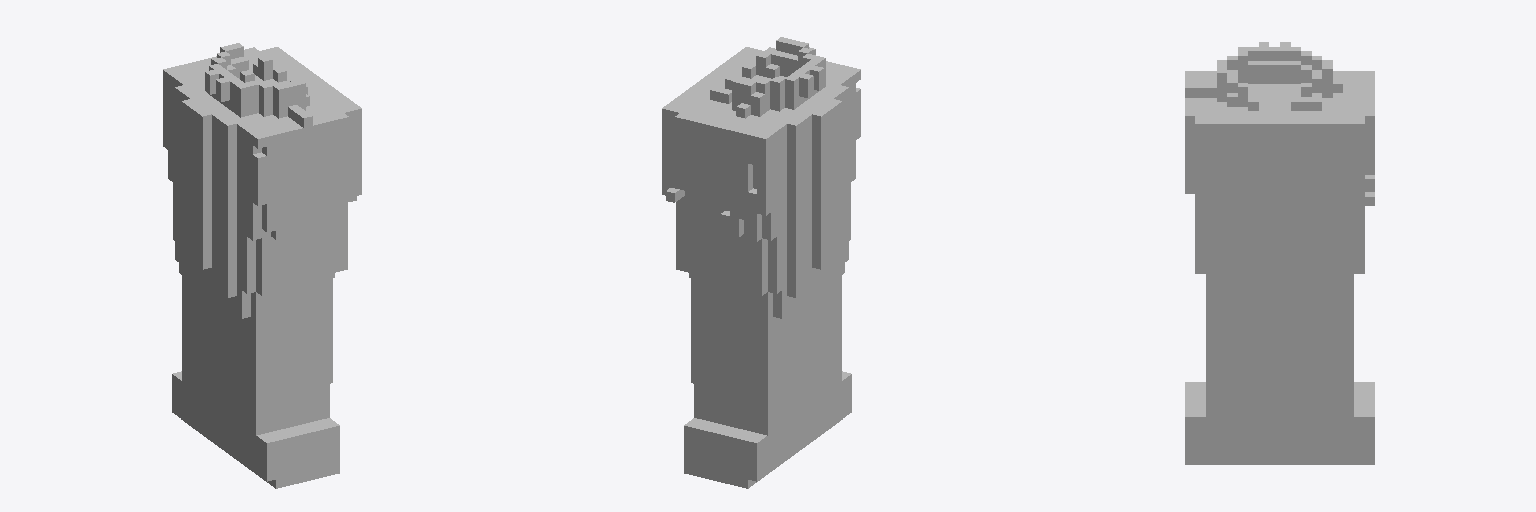
Rendered from pers-10-Arn.obj.
3 renders of one model, left to right at view 1: azimuth 30°, elevation 25°; view 2: azimuth 150°, elevation 25°; view 3: azimuth 270°, elevation 25°, orthographic.
Parts seen in each view (by area): view 1: Arn; view 2: Arn; view 3: Arn.
Part boxes in pixels (x1,y1,x2,y2): Arn: (163, 43, 361, 488); Arn: (662, 37, 860, 488); Arn: (1185, 42, 1374, 464).
Bounding box in the file's own units: 1.4 × 4 × 1.8.